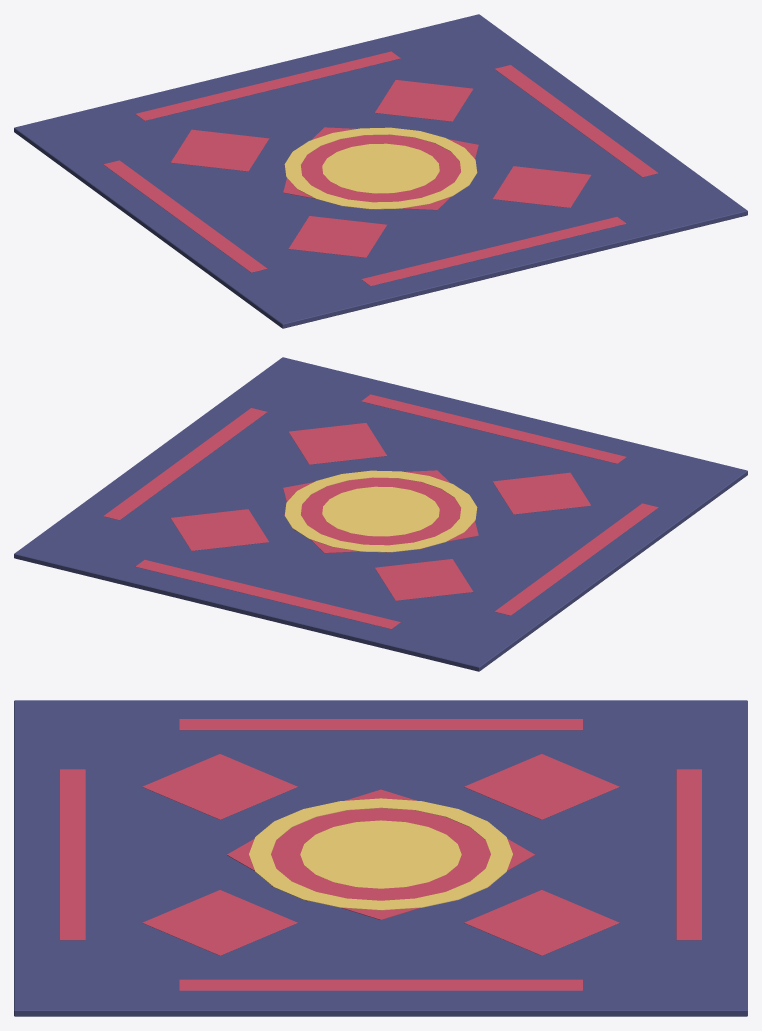
Rendered from cinema-multiplex-and-foyer-carpet-floor-tile-f8877c6c__34673.glb.
The picture shows the model from 3 angles, top to bottom: view 1: azimuth 30°, elevation 25°; view 2: azimuth 150°, elevation 25°; view 3: azimuth 270°, elevation 25°; orthographic projection. The views are drawn at different scales.
Parts seen in each view (by area): view 1: carpet-floor-tile; view 2: carpet-floor-tile; view 3: carpet-floor-tile.
Boxes of the visible parts, x1=… form: carpet-floor-tile: x1=14, y1=14, x2=747, y2=328; carpet-floor-tile: x1=14, y1=357, x2=747, y2=671; carpet-floor-tile: x1=14, y1=700, x2=747, y2=1016.
Bounding box in the file's own units: 2 × 0.0228 × 2.
